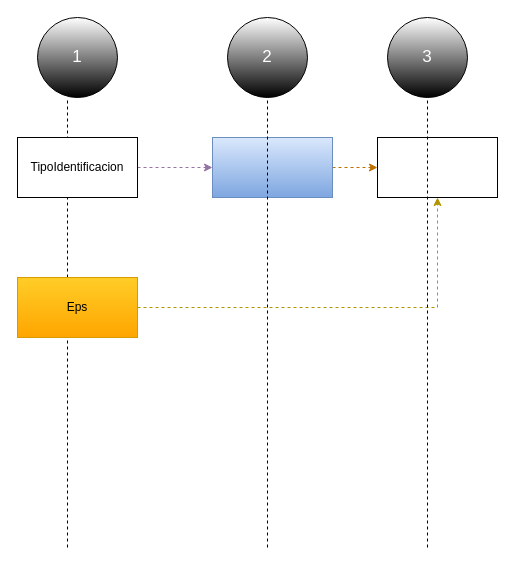
Image size: 515x566. Some labels were removed from this diagram. The centre of each missing label's shape, as x and y in pixels:
paciente: point 272,167
RegimenAfiliacion: point 437,167
